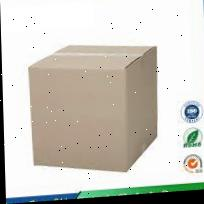cube: (28, 42, 161, 178)
